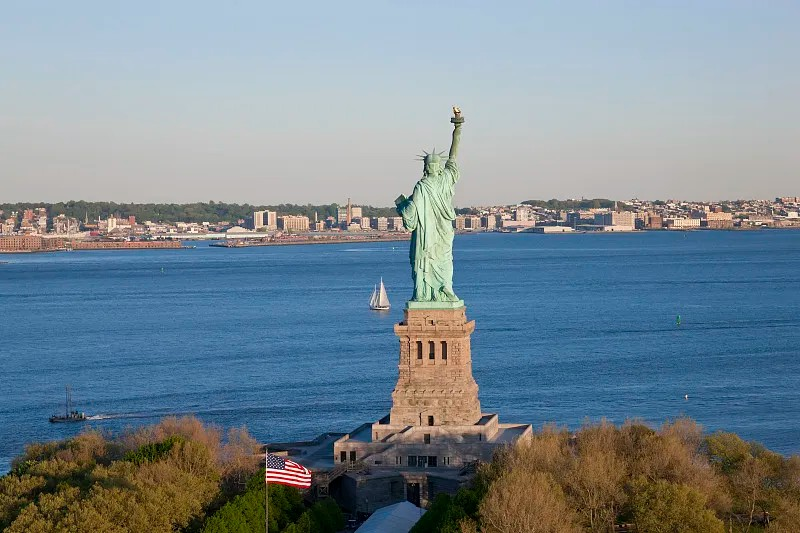SL: (389, 104, 482, 426)
